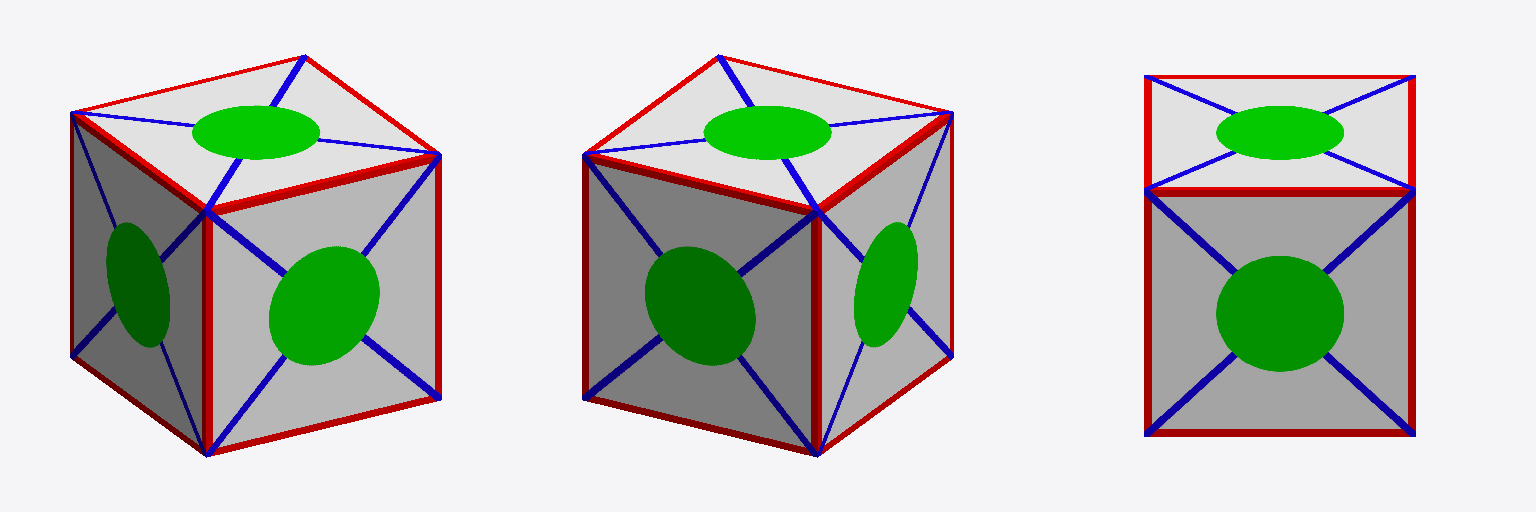
3 views of the same model, side by side, from view 1: azimuth 30°, elevation 25°; view 2: azimuth 150°, elevation 25°; view 3: azimuth 270°, elevation 25° (orthographic).
Visible parts, largest first — view 1: Cube; view 2: Cube; view 3: Cube.
Boxes of the visible parts, box(x1,y1,x2,y2) form: Cube: box(70, 54, 441, 457); Cube: box(582, 54, 953, 457); Cube: box(1144, 75, 1415, 436).
Bounding box in the file's own units: 2 × 2 × 2.
Materials: 1 (1 with a texture image).